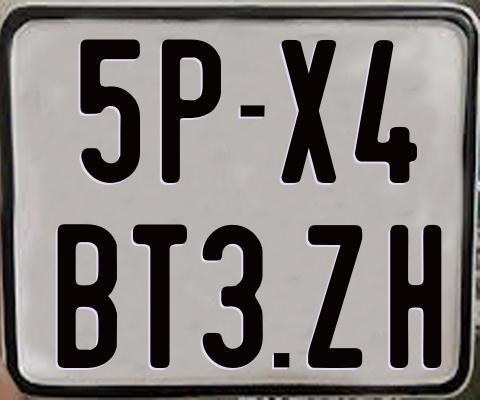3: (203, 225, 263, 373)
4: (352, 40, 414, 187)
5: (80, 37, 145, 186)
B: (55, 224, 114, 371)
H: (389, 224, 443, 373)
P: (159, 37, 222, 187)
T: (133, 224, 193, 372)
X: (280, 39, 337, 184)
Z: (306, 225, 363, 373)
